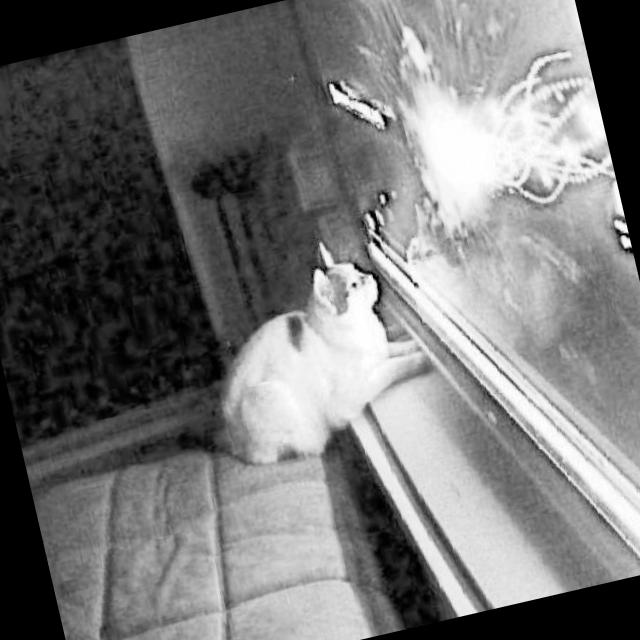Cat: (180, 213, 447, 484)
